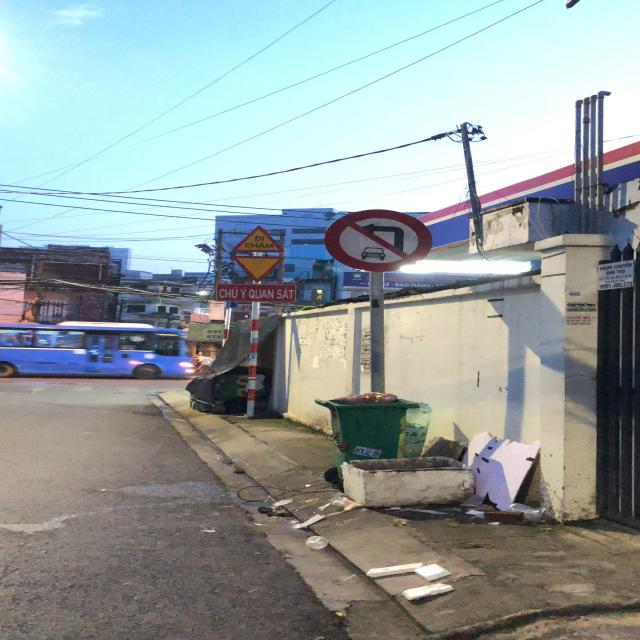Bien bao cam xe o to re trai: (322, 205, 436, 268)
Bien bao di cham: (227, 222, 290, 254)
Bien bao giao nhau voi duong uu tien: (230, 255, 286, 280)
